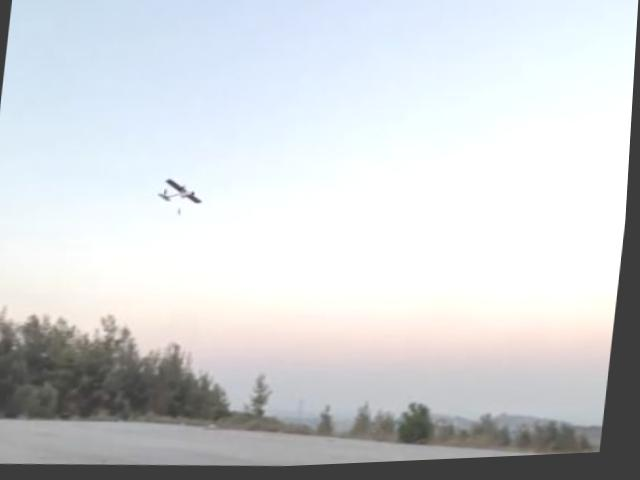uav: (160, 173, 210, 211)
